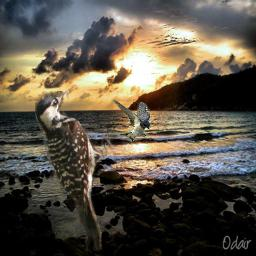Swallow: (109, 99, 150, 142)
Woodpecker: (35, 91, 116, 251)
